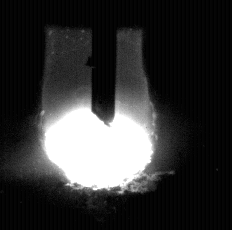arame: (93, 0, 117, 128)
poca: (44, 0, 154, 230)
